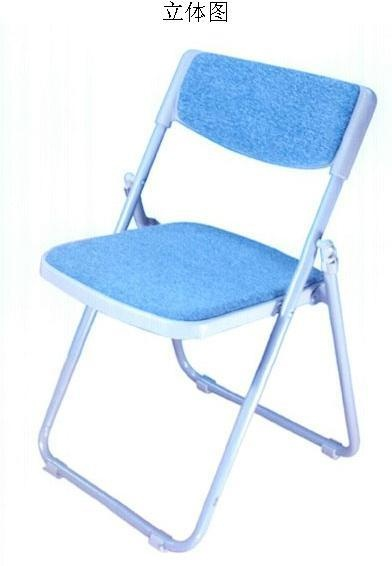obstacle: (39, 50, 375, 551)
